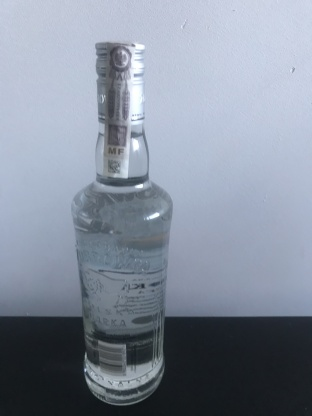nakretka: (91, 35, 149, 128)
